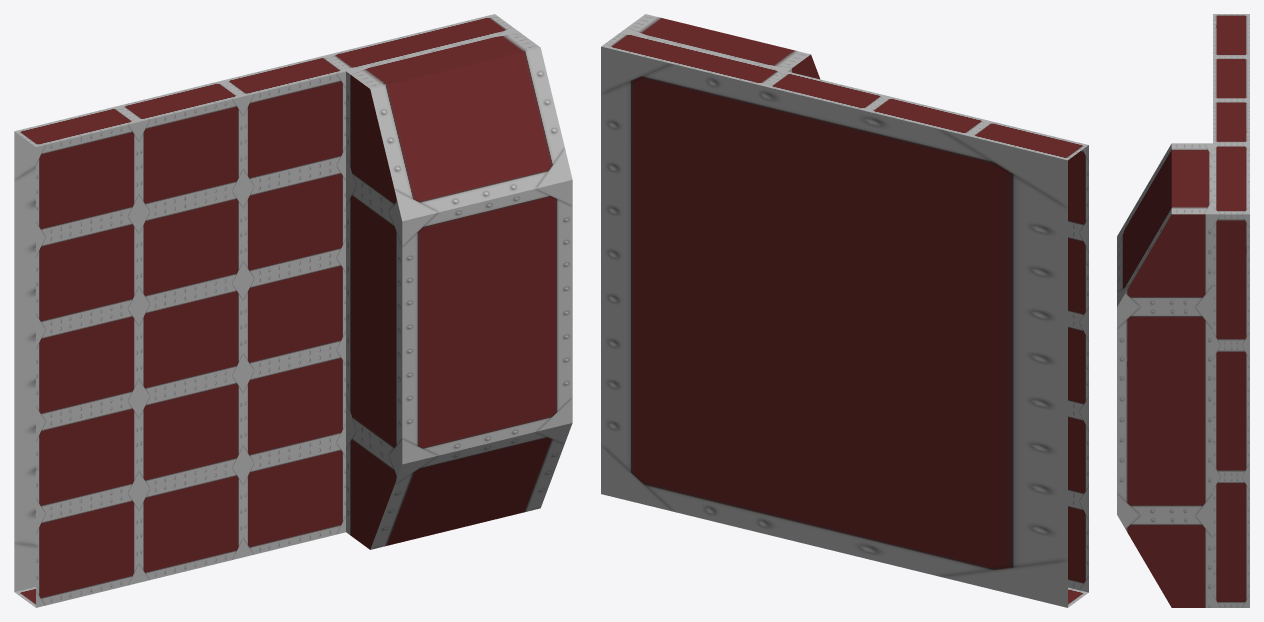
File: ISS_INT_props_Suitcase_big.FBX
3 renders of one model, left to right at view 1: azimuth 30°, elevation 25°; view 2: azimuth 150°, elevation 25°; view 3: azimuth 270°, elevation 25°, orthographic. The views are drawn at different scales.
Parts seen in each view (by area): view 1: Object005; view 2: Object005; view 3: Object005.
Boxes of the visible parts, bbox=[...] form: Object005: bbox=[14, 14, 572, 607]; Object005: bbox=[601, 14, 1088, 607]; Object005: bbox=[1117, 14, 1249, 607].
Size of the model in its own units: 0.0939 by 0.0861 by 0.0263.
